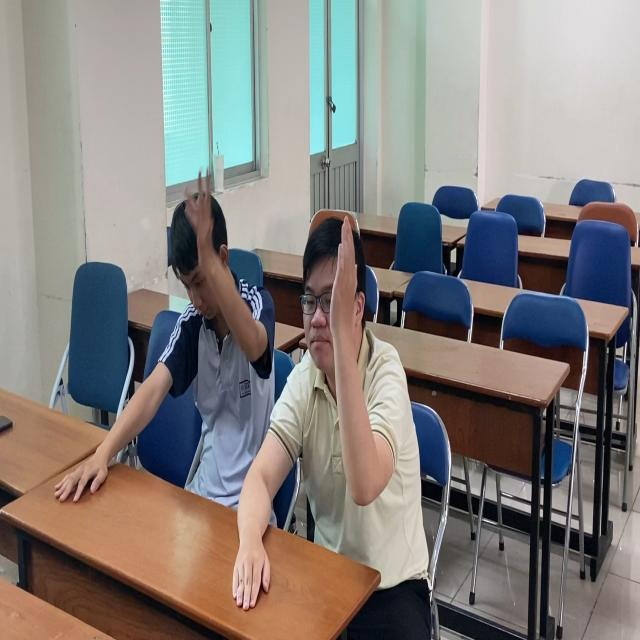raise_hand: (275, 204, 435, 567)
